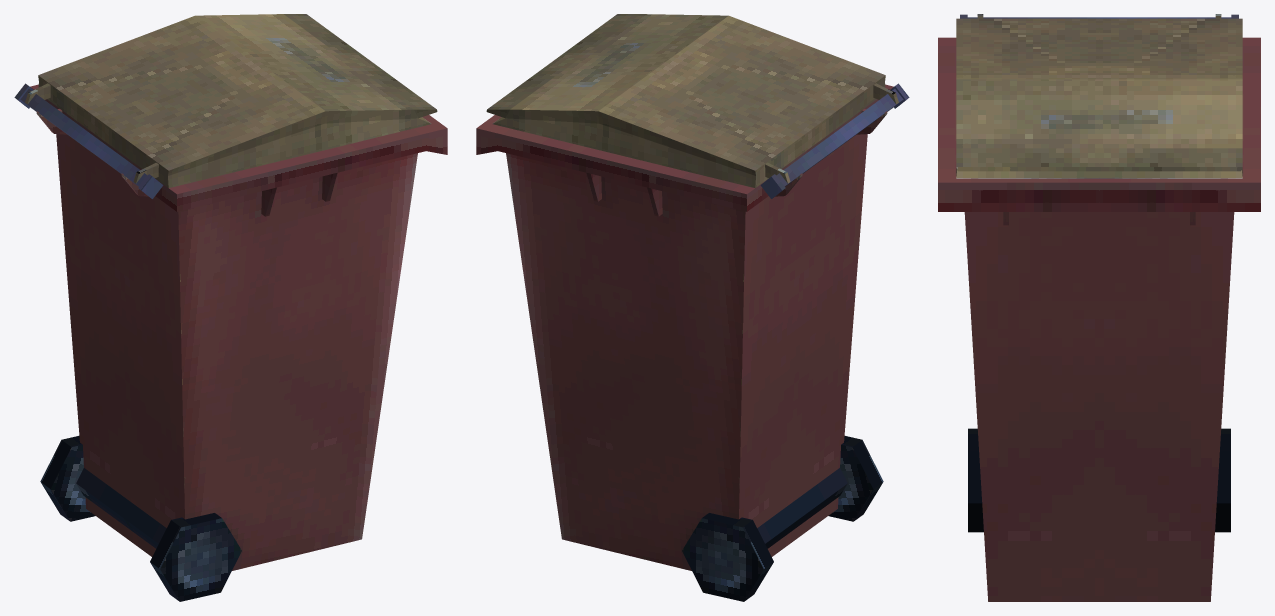
The model's file is trash_can_alt2.glb.
3 renders of one model, left to right at view 1: azimuth 30°, elevation 25°; view 2: azimuth 150°, elevation 25°; view 3: azimuth 270°, elevation 25°, orthographic. The views are drawn at different scales.
Parts seen in each view (by area): view 1: trash_can_alt2; view 2: trash_can_alt2; view 3: trash_can_alt2.
Boxes of the visible parts, x1,y1,x2,y2 form: trash_can_alt2: (14,14,447,601); trash_can_alt2: (476,14,909,601); trash_can_alt2: (938,14,1260,601).
Bounding box in the file's own units: 0.9058 × 1.35 × 0.7794.
1 material, 1 textured.
